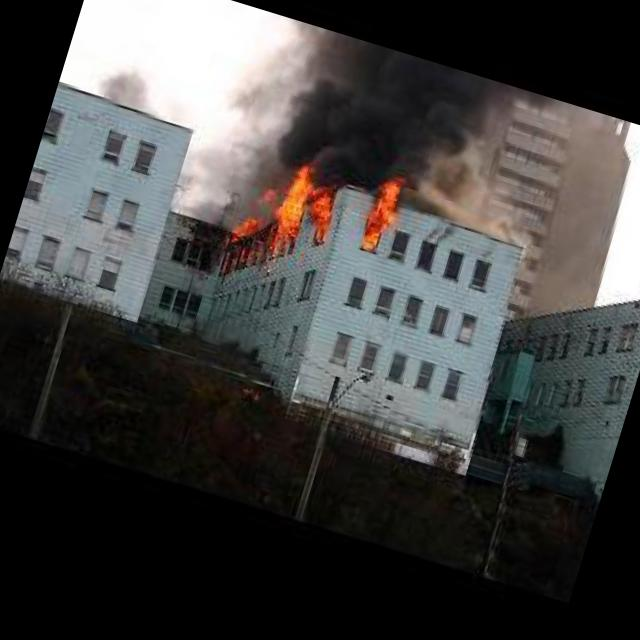fire: (220, 147, 402, 270)
